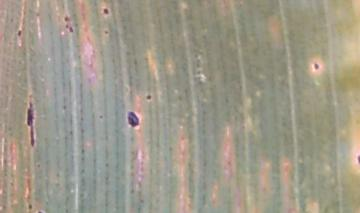tarspot: (23, 97, 40, 150), (122, 109, 142, 130), (310, 59, 323, 73), (100, 7, 113, 19), (63, 24, 78, 34), (101, 26, 113, 38), (144, 92, 154, 105), (15, 27, 23, 39), (25, 202, 34, 212), (62, 12, 69, 23)
